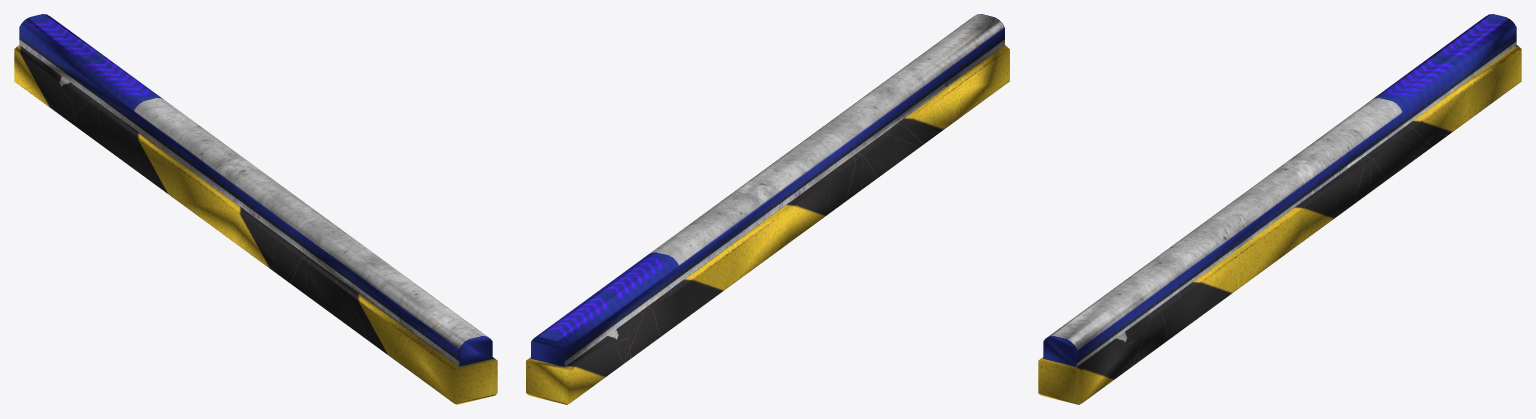
File: Ob_GrindRailFull_RC.fbx
3 views of the same model, side by side, from view 1: azimuth 30°, elevation 25°; view 2: azimuth 150°, elevation 25°; view 3: azimuth 330°, elevation 25° (orthographic).
Parts seen in each view (by area): view 1: Ob_GrindRailFull_RC; view 2: Ob_GrindRailFull_RC; view 3: Ob_GrindRailFull_RC.
Part boxes in pixels (left/top/right/bottom): Ob_GrindRailFull_RC: left=14, top=14, right=497, bottom=404; Ob_GrindRailFull_RC: left=526, top=14, right=1009, bottom=404; Ob_GrindRailFull_RC: left=1038, top=14, right=1521, bottom=404.
Bounding box in the file's own units: 45.72 × 62.73 × 800.
